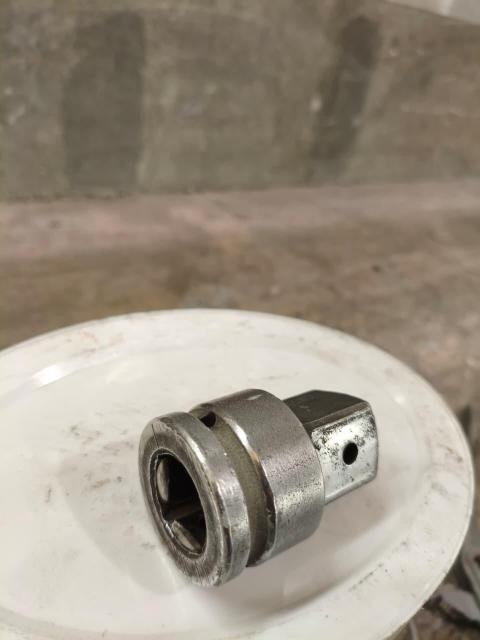Metal: (143, 398, 380, 563)
